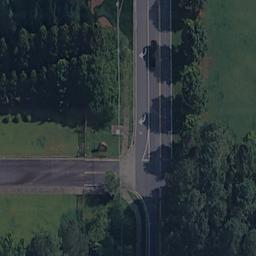Chevron: (139, 133, 154, 163)
Double Solid Yellow Line: (157, 1, 163, 250)
Right Turn Arrow: (137, 46, 148, 59), (136, 112, 146, 126)
Solid White Line: (144, 1, 150, 140)
White Dashed Line: (72, 169, 112, 174)
